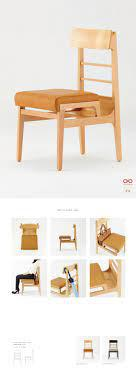chair: (11, 22, 129, 175)
